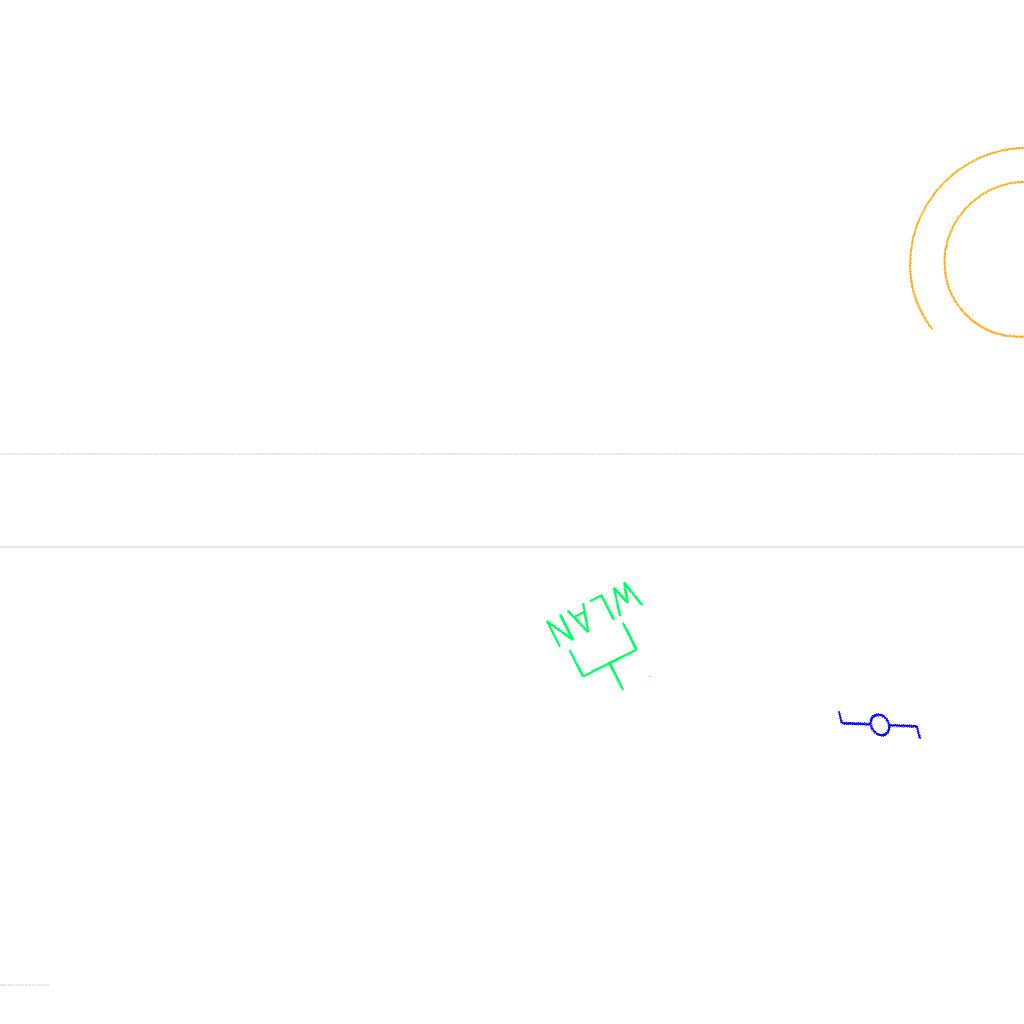Scheinwerfer_fuer_Alarmbeleuchtung: (838, 85, 1024, 426)
WLAN: (539, 572, 681, 713)
Wechselschalter: (830, 677, 932, 781)
